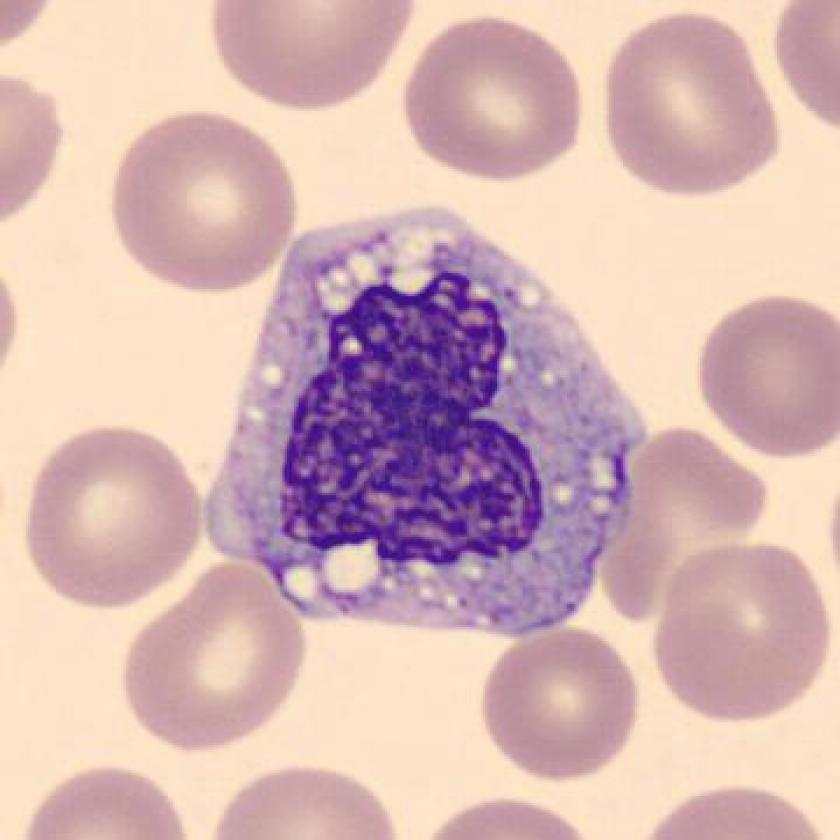monocyte: (190, 193, 666, 656)
